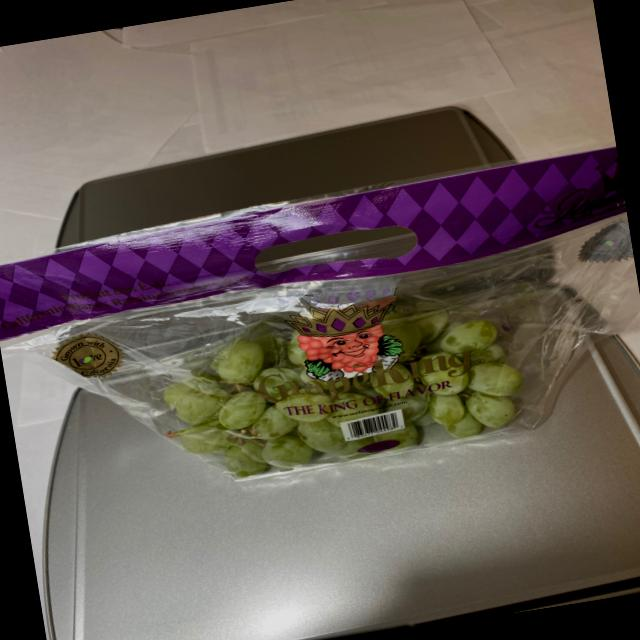grapes: (152, 286, 552, 492)
